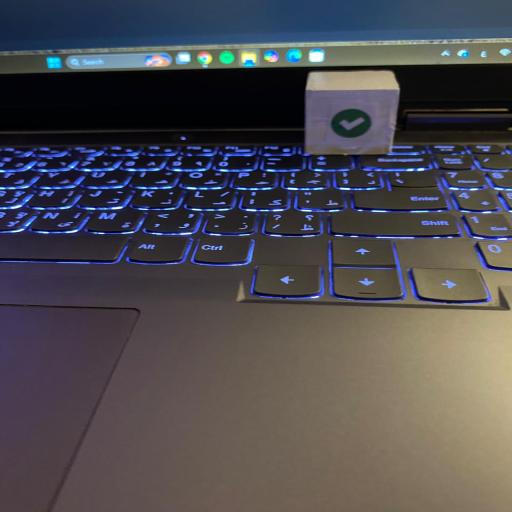Confirm: (304, 71, 400, 156)
